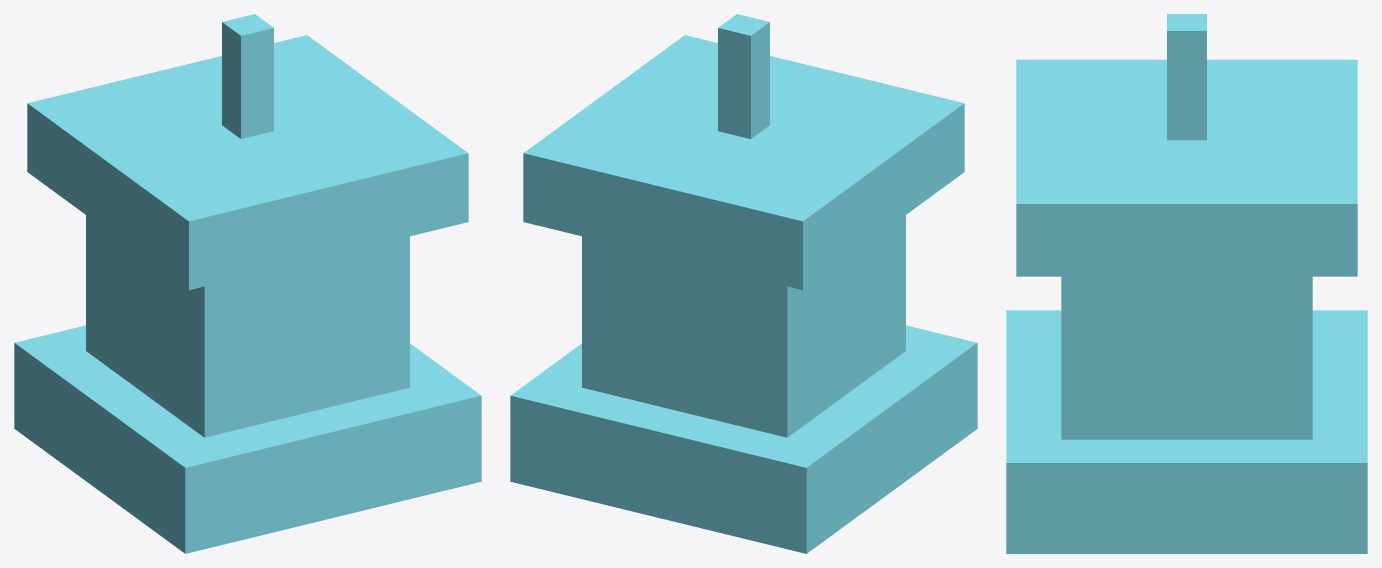
Rendered from outpost.gltf.
3 views of the same model, side by side, from view 1: azimuth 30°, elevation 25°; view 2: azimuth 150°, elevation 25°; view 3: azimuth 270°, elevation 25° (orthographic). The views are drawn at different scales.
Visible parts, largest first — view 1: outpost; view 2: outpost; view 3: outpost.
Boxes of the visible parts, x1=… form: outpost: x1=14, y1=14, x2=481, y2=553; outpost: x1=510, y1=14, x2=977, y2=553; outpost: x1=1006, y1=14, x2=1367, y2=553.
Size of the model in its own units: 1.8 by 2.5 by 1.8.
